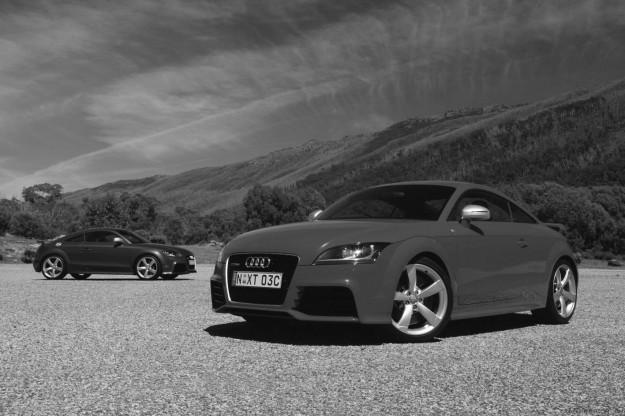car: (207, 177, 581, 343)
